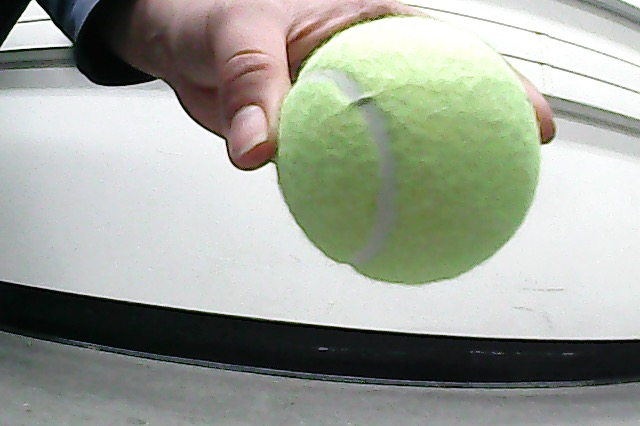ball: (275, 15, 545, 294)
